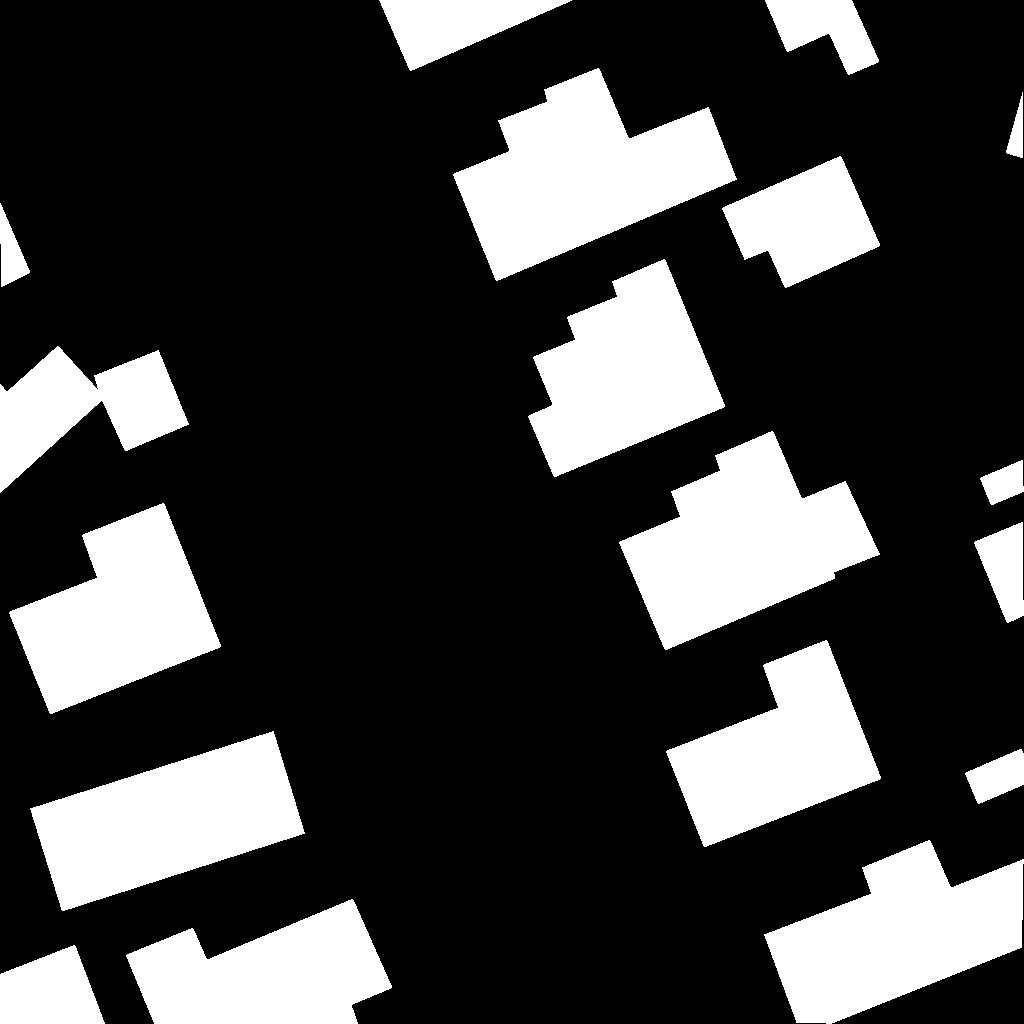building: (453, 68, 738, 282), (619, 431, 881, 651), (30, 731, 306, 912), (764, 840, 1024, 1024), (9, 503, 222, 715), (666, 640, 882, 848), (528, 259, 726, 478), (126, 899, 393, 1024), (0, 346, 190, 494), (722, 156, 881, 289), (379, 0, 574, 72), (765, 0, 880, 76), (0, 945, 106, 1024), (974, 522, 1024, 624), (965, 749, 1024, 805), (0, 202, 31, 288), (980, 460, 1024, 506), (1006, 91, 1024, 159)
